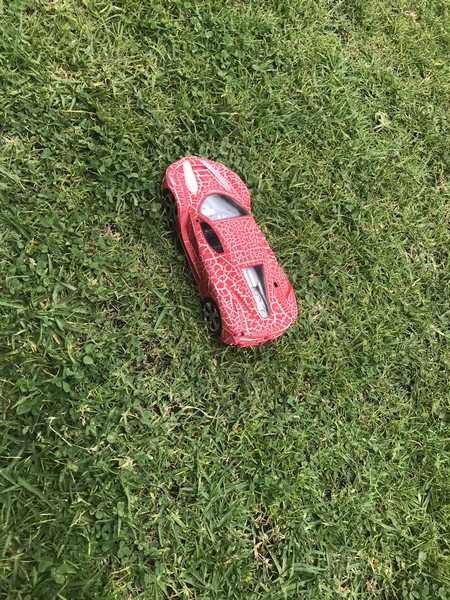RC: (160, 154, 302, 351)
